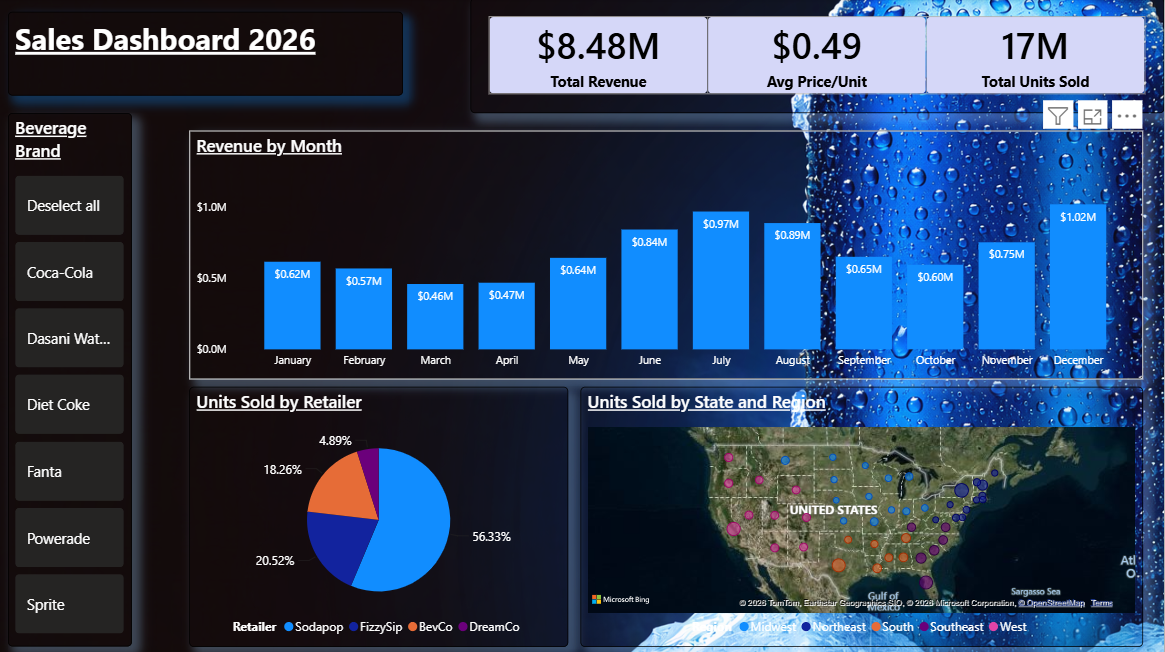

Layout of this report page (visuals, bound fields, positions):
{"tool":"powerbi","page":{"name":"sales_dashboard","canvas":[1280,720],"ordinal":0},"visuals":[{"type":"cardVisual","fields":{"Data":["Sum(sales.Revenue)","Avg(sales.Price per Unit)","Sum(sales.Units Sold)"]},"box":[518.7,0,761.6,126.2],"z":0},{"type":"clusteredColumnChart","title":"Revenue by Month","fields":{"Category":["sales.Month Name"],"Y":["Sum(sales.Revenue)"]},"box":[209.9,145.5,1047,273.1],"z":1000},{"type":"pieChart","title":"Units Sold by Retailer","fields":{"Category":["sales.Retailer"],"Y":["Sum(sales.Units Sold)"]},"box":[209.9,426.8,415.8,285.4],"z":2000},{"type":"map","title":"Units Sold by State and Region","fields":{"Category":["sales.State"],"Series":["sales.Region"],"Size":["Sum(sales.Units Sold)"]},"box":[639.5,426.8,617.5,285.4],"z":3000},{"type":"advancedSlicerVisual","fields":{"Values":["sales.Beverage Brand"]},"box":[11,126.2,135.8,585.9],"z":4000},{"type":"textbox","box":[11,15.1,433.6,91.9],"z":5000}]}

Visuals, with their boxes in screenshot pixels (x1, y1, x2, y2), scaled from the page's 1280x720 canvas onto the 1165x652 screenshot:
cardVisual - Sum(sales.Revenue) x Avg(sales.Price per Unit): pyautogui.locateOnScreen(472, 0, 1164, 114)
"Revenue by Month" clusteredColumnChart: pyautogui.locateOnScreen(191, 132, 1144, 379)
"Units Sold by Retailer" pieChart: pyautogui.locateOnScreen(191, 386, 569, 645)
"Units Sold by State and Region" map: pyautogui.locateOnScreen(582, 386, 1144, 645)
advancedSlicerVisual - sales.Beverage Brand: pyautogui.locateOnScreen(10, 114, 134, 645)
textbox: pyautogui.locateOnScreen(10, 14, 405, 97)
